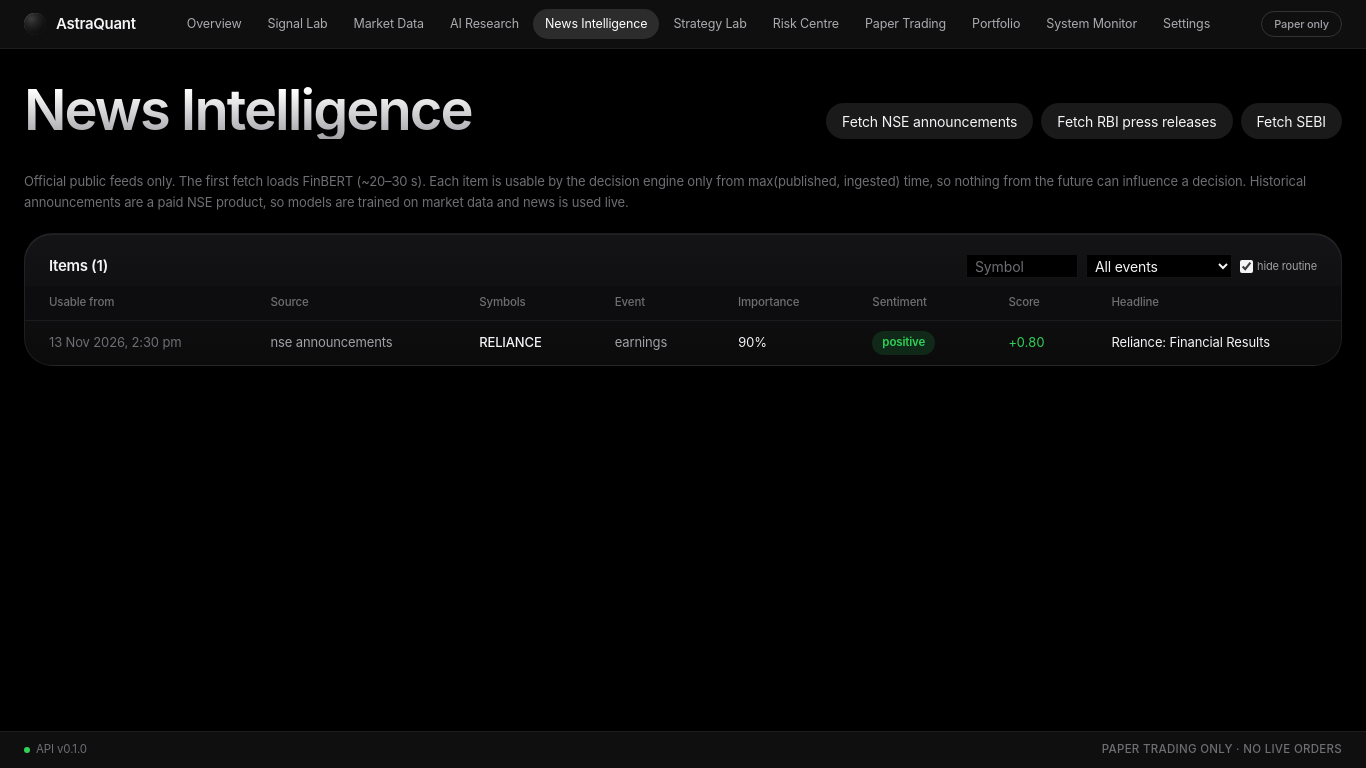
Test case: News › ingests a source, reports stats, and hides routine items by default
expect the link "Reliance: Financial Results" is shown: met, box [1111,334,1270,350]
expect the text "X: Declaration of NAV" is not shown: met
Click the checkbox at (1246, 266), box [1240,260,1253,273]
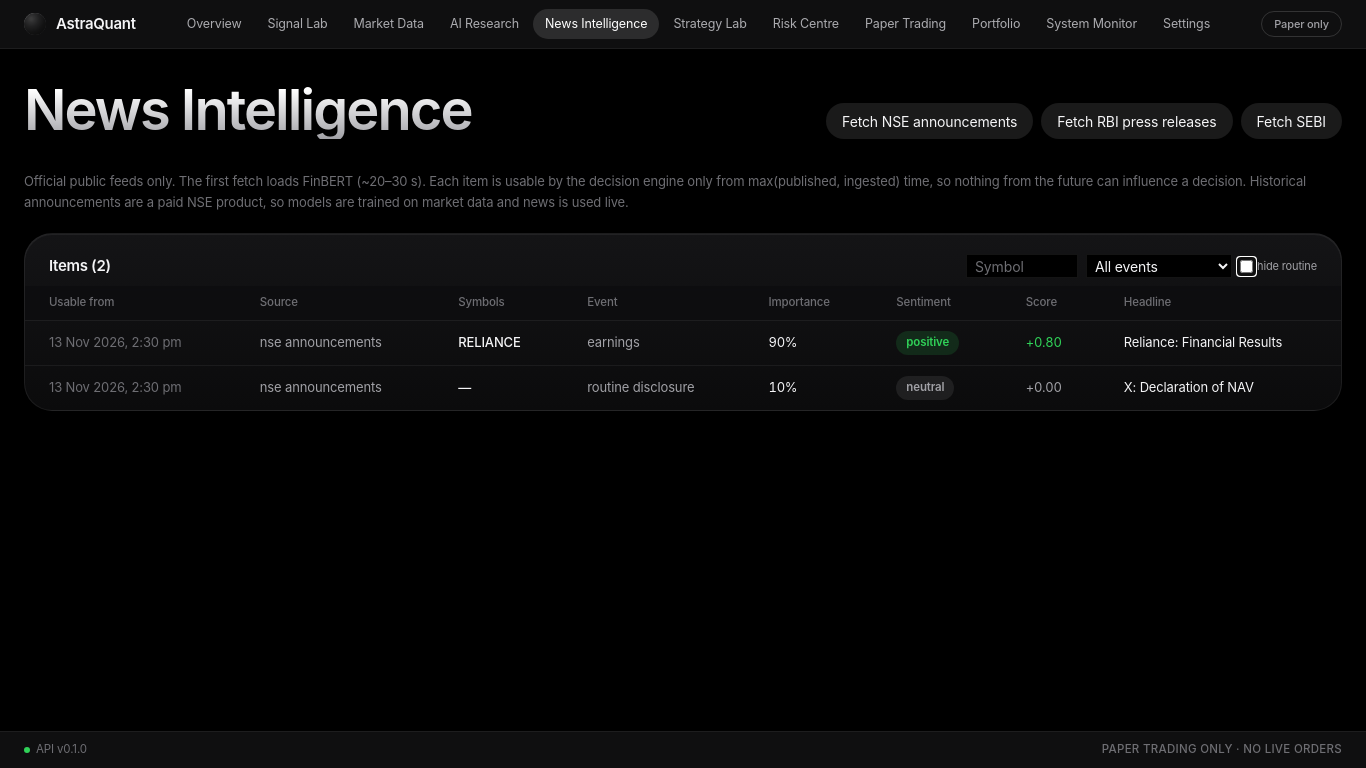
expect the link "X: Declaration of NAV" is shown: met, box [1124,379,1254,395]
Click the button "Fetch NSE announcements" at (930, 121), box [826,103,1033,139]
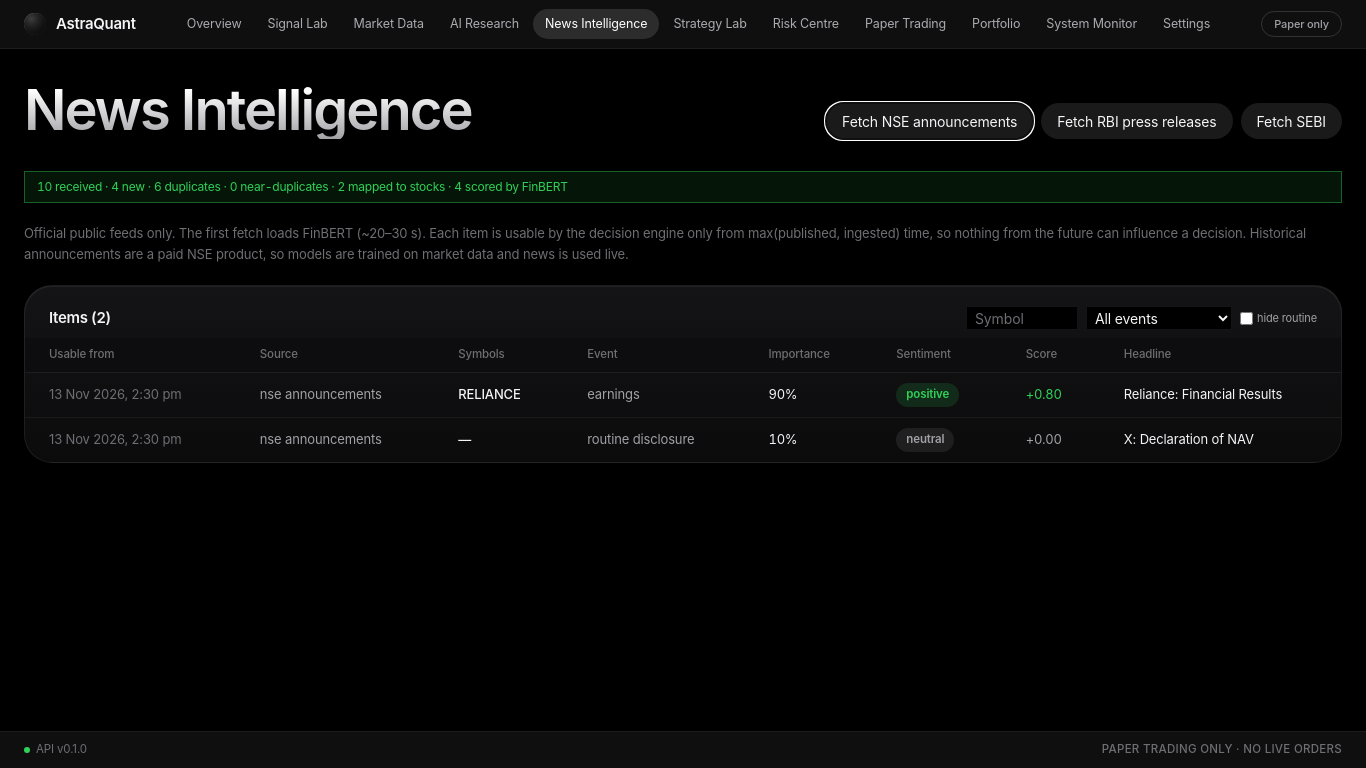
expect the text "4 new · 6 duplicates" is shown: met, box [24,171,1342,203]
